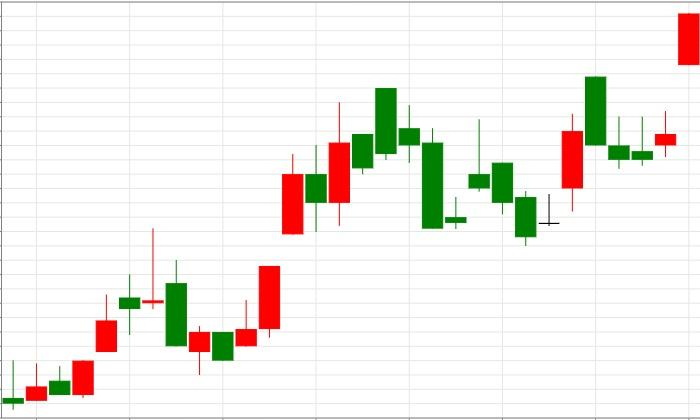three_white_soldiers_rise: (142, 153, 304, 375)
